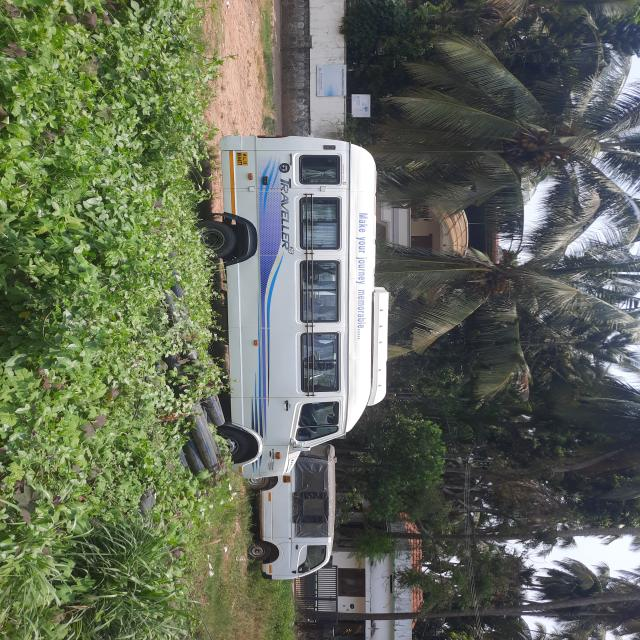Traveller: (212, 136, 388, 580)
